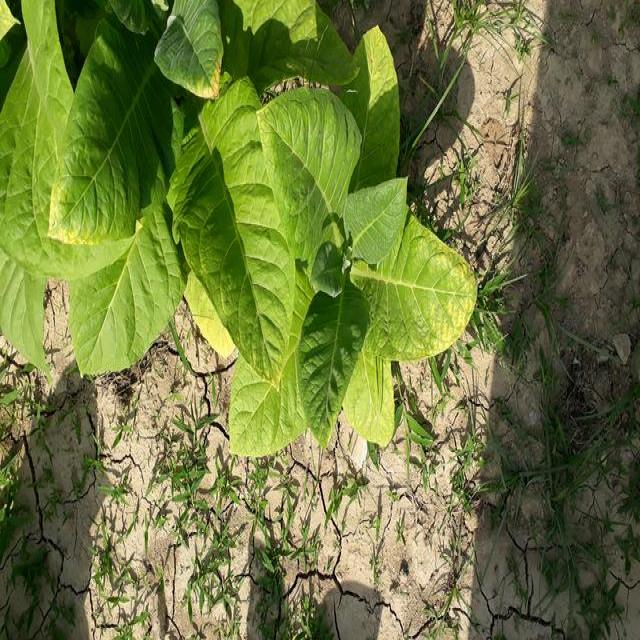crop: (0, 0, 476, 459)
